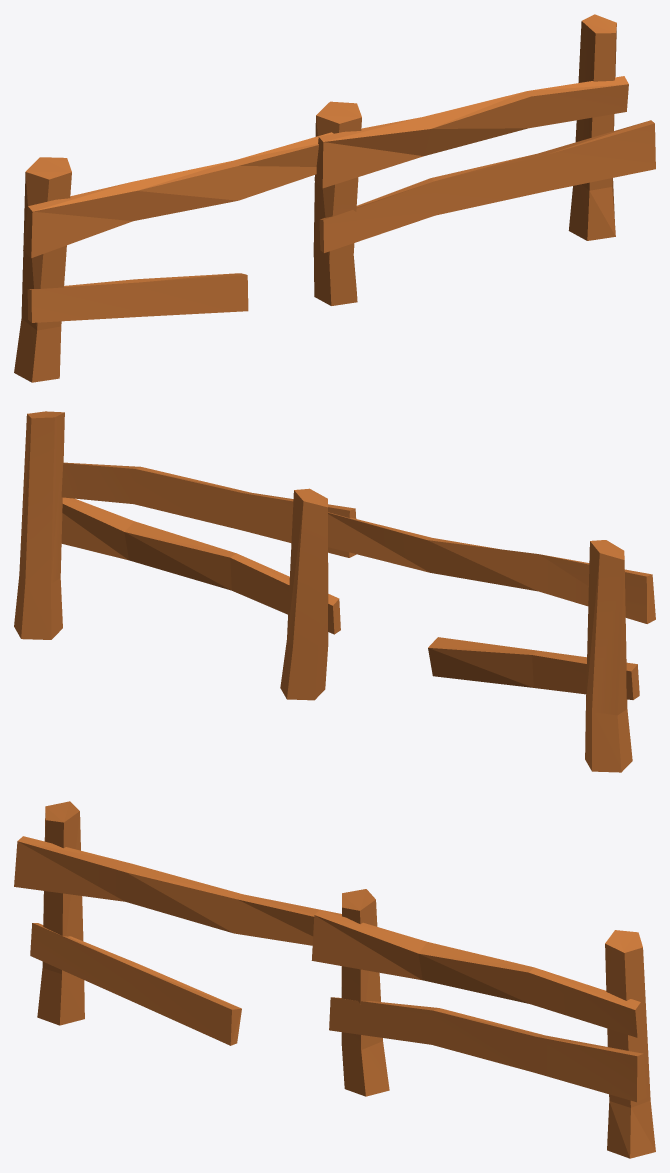
Rendered from LowPoly - Fence A.fbx.
The picture shows the model from 3 angles, top to bottom: view 1: azimuth 30°, elevation 25°; view 2: azimuth 150°, elevation 25°; view 3: azimuth 330°, elevation 25°; orthographic projection.
Parts seen in each view (by area): view 1: LowPoly___Fence_A; view 2: LowPoly___Fence_A; view 3: LowPoly___Fence_A.
Part boxes in pixels (<box>): LowPoly___Fence_A: <box>14,14,655,382</box>; LowPoly___Fence_A: <box>14,411,655,772</box>; LowPoly___Fence_A: <box>14,801,655,1158</box>.
Bounding box in the file's own units: 496 × 163 × 56.37.
